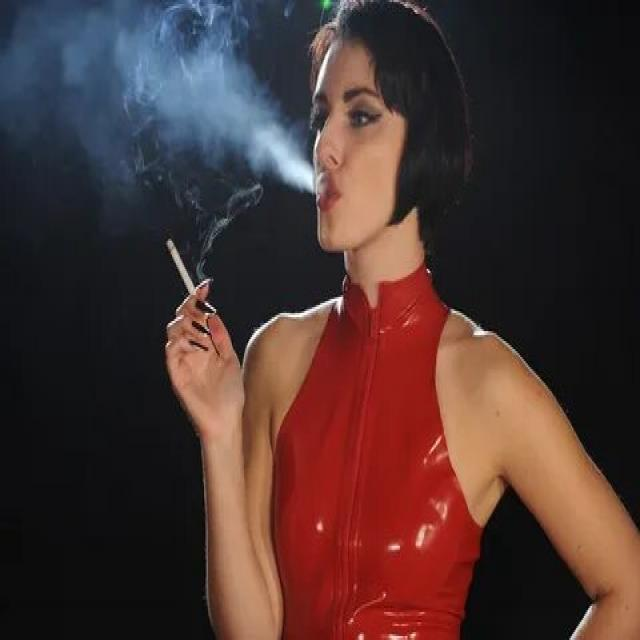cigarette: (165, 235, 199, 301)
